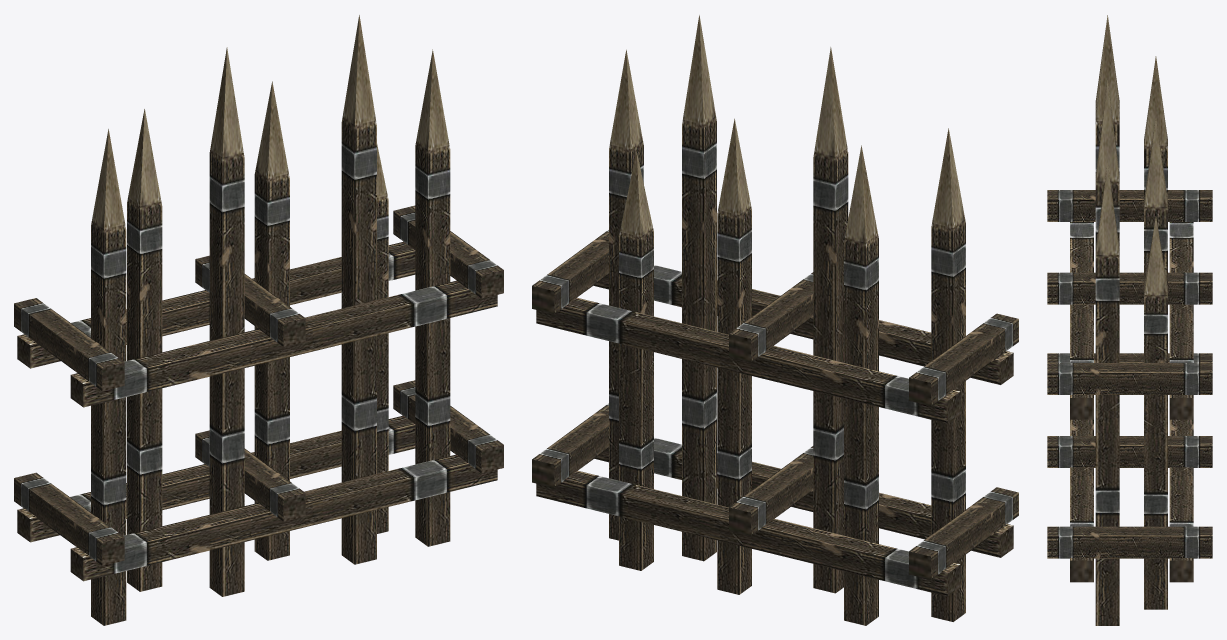
The model's file is wood_defance.FBX.
The picture shows the model from 3 angles, left to right: view 1: azimuth 30°, elevation 25°; view 2: azimuth 150°, elevation 25°; view 3: azimuth 270°, elevation 25°; orthographic projection. The views are drawn at different scales.
Parts seen in each view (by area): view 1: WoodFence; view 2: WoodFence; view 3: WoodFence.
Boxes of the visible parts, left/top/right/bottom form: WoodFence: left=14, top=15, right=503, bottom=625; WoodFence: left=532, top=15, right=1018, bottom=625; WoodFence: left=1047, top=15, right=1212, bottom=625.
Bounding box in the file's own units: 171 × 215 × 63.28.
